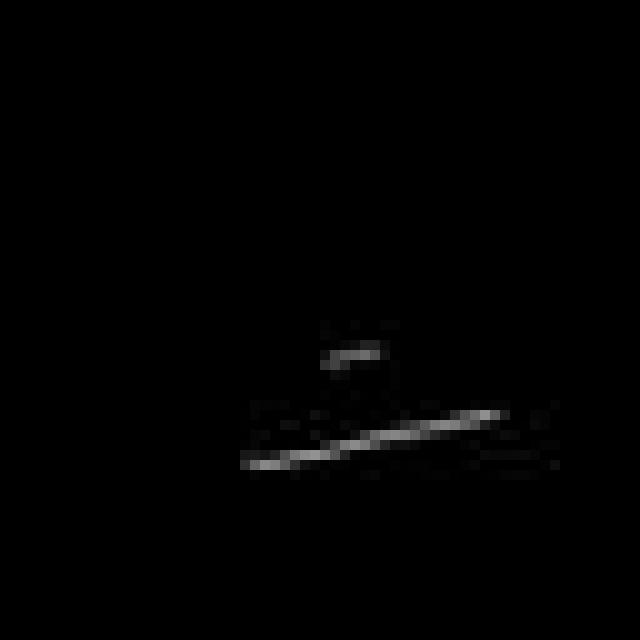2 -two-: (239, 320, 510, 490)
